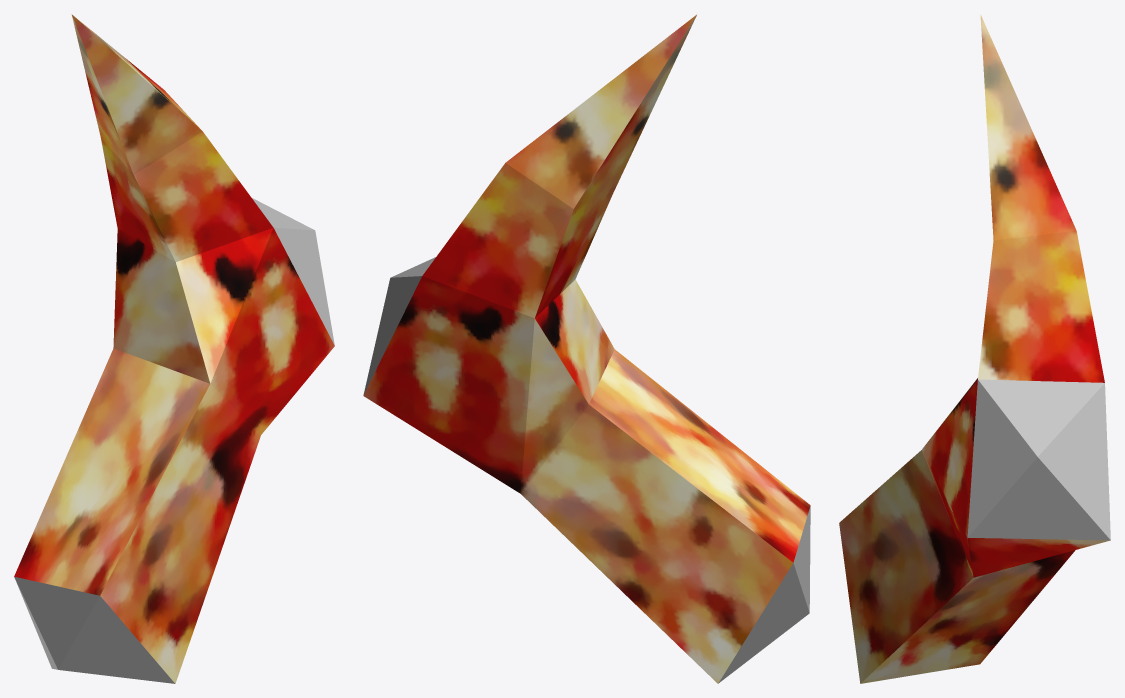
File: LeftAntler1.fbx
The picture shows the model from 3 angles, left to right: view 1: azimuth 30°, elevation 25°; view 2: azimuth 150°, elevation 25°; view 3: azimuth 270°, elevation 25°; orthographic projection. The views are drawn at different scales.
Parts seen in each view (by area): view 1: BigLeftAntler1; view 2: BigLeftAntler1; view 3: BigLeftAntler1.
Part boxes in pixels (bbox=[...]): BigLeftAntler1: bbox=[14, 14, 334, 683]; BigLeftAntler1: bbox=[363, 14, 810, 683]; BigLeftAntler1: bbox=[839, 15, 1110, 683].
Bounding box in the file's own units: 328 × 587 × 219.
